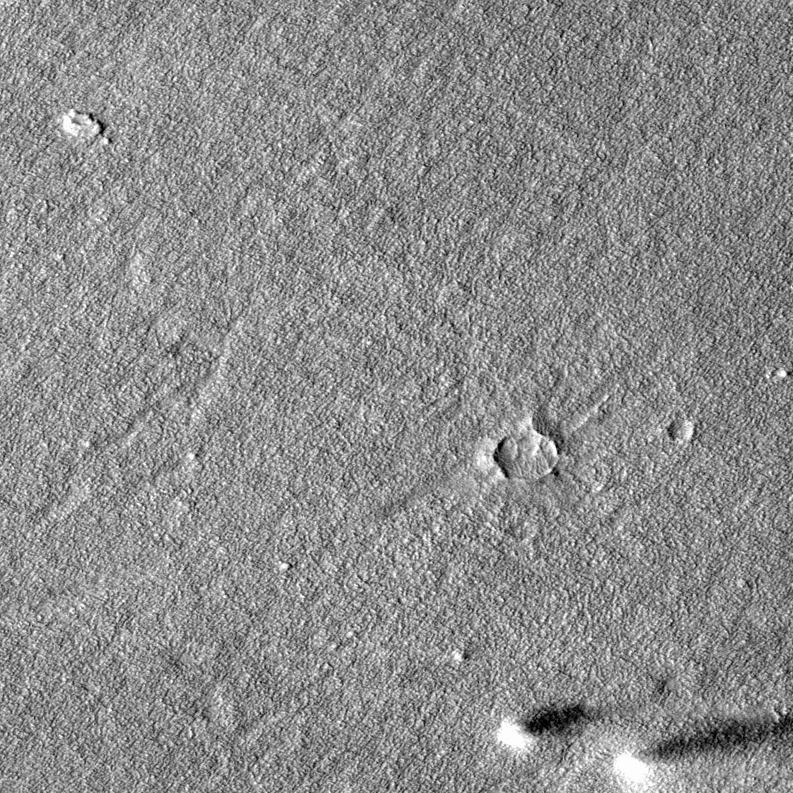dust_devil: (610, 713, 793, 789), (494, 697, 602, 752)
